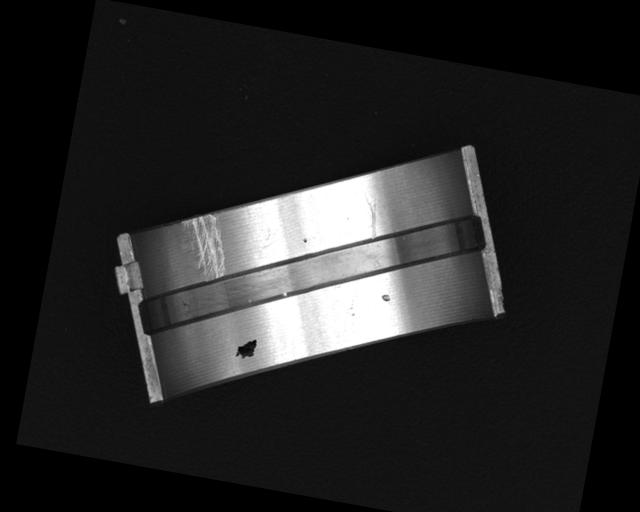blot: (233, 335, 258, 360)
bruise: (380, 292, 391, 302), (302, 238, 307, 245)
gap: (136, 159, 492, 390)
nick: (357, 193, 383, 239)
scratch: (173, 209, 233, 280)
